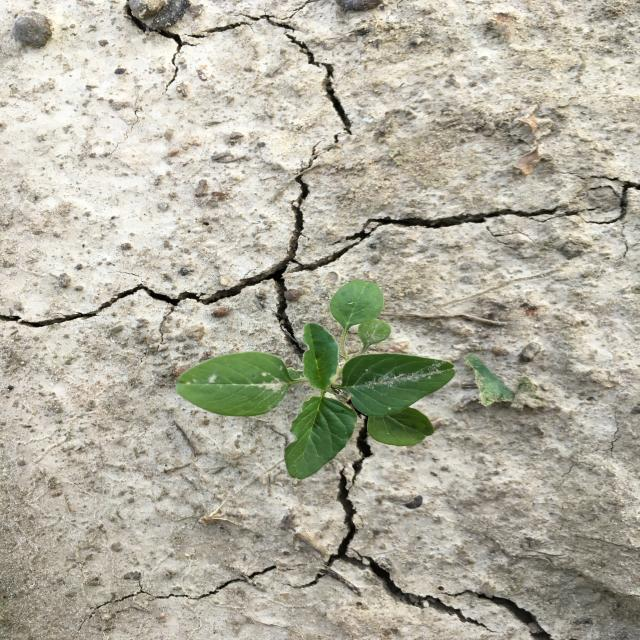PalmerAmaranth: (173, 277, 458, 483)
